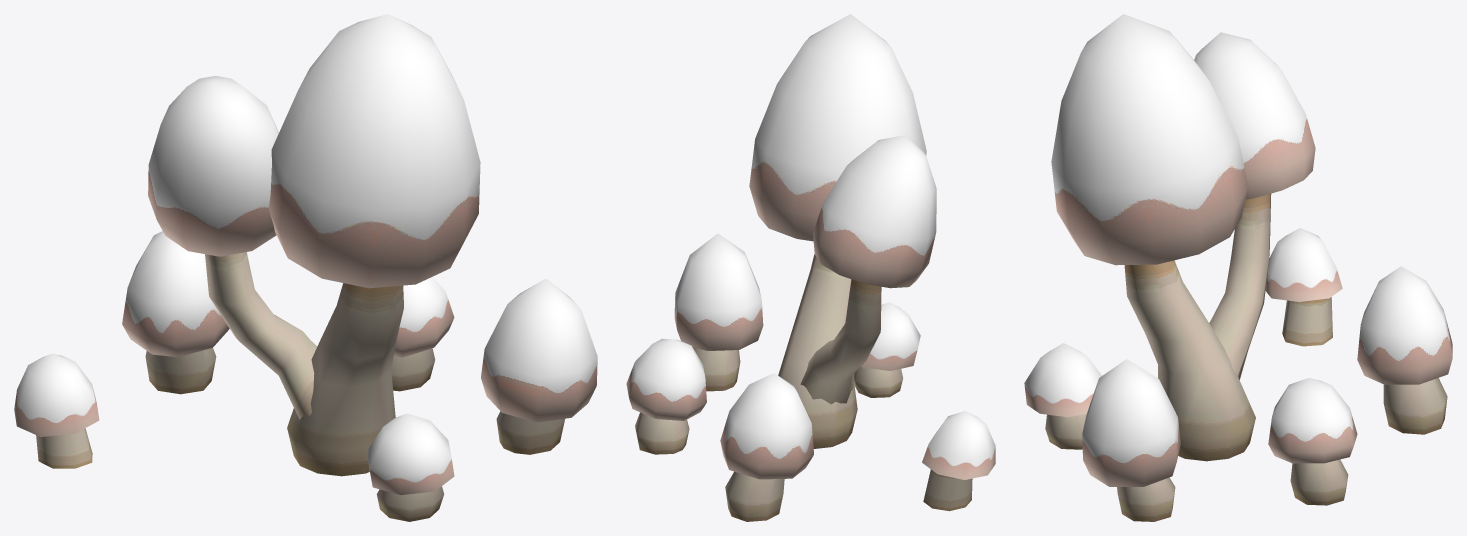
Rendered from MushroomPatch.fbx.
3 views of the same model, side by side, from view 1: azimuth 30°, elevation 25°; view 2: azimuth 150°, elevation 25°; view 3: azimuth 270°, elevation 25° (orthographic). The views are drawn at different scales.
Visible parts, largest first — view 1: Mushrooms; view 2: Mushrooms; view 3: Mushrooms.
Part boxes in pixels (left/top/right/bottom): Mushrooms: left=14, top=14, right=597, bottom=521; Mushrooms: left=626, top=14, right=995, bottom=521; Mushrooms: left=1024, top=14, right=1452, bottom=521.
Size of what is drawn, in the model's own units: 0.6822 by 0.657 by 0.5945.
Materials: 1 (1 with a texture image).
